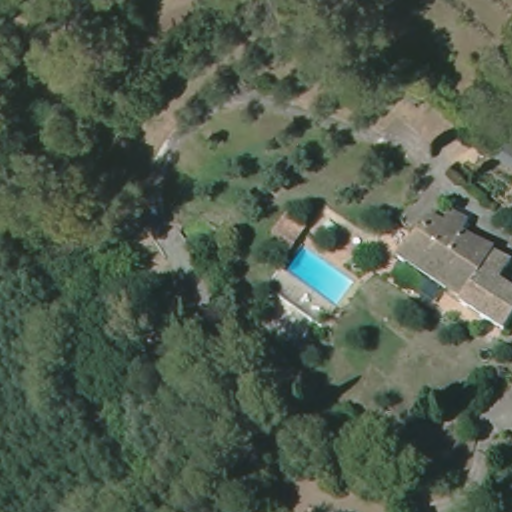pool: (287, 249, 355, 307)
